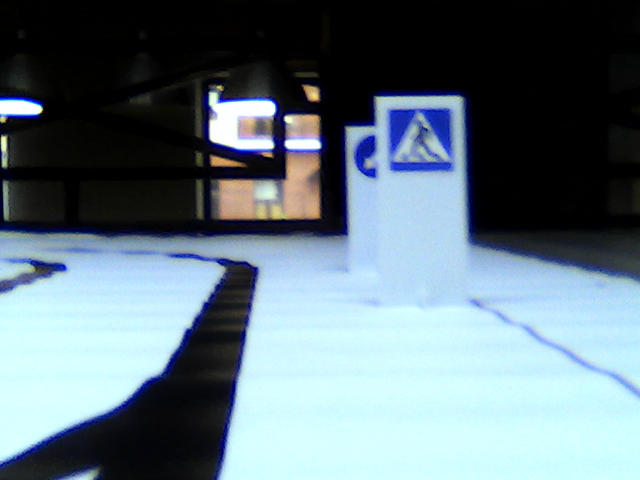pesh: (389, 110, 452, 171)
